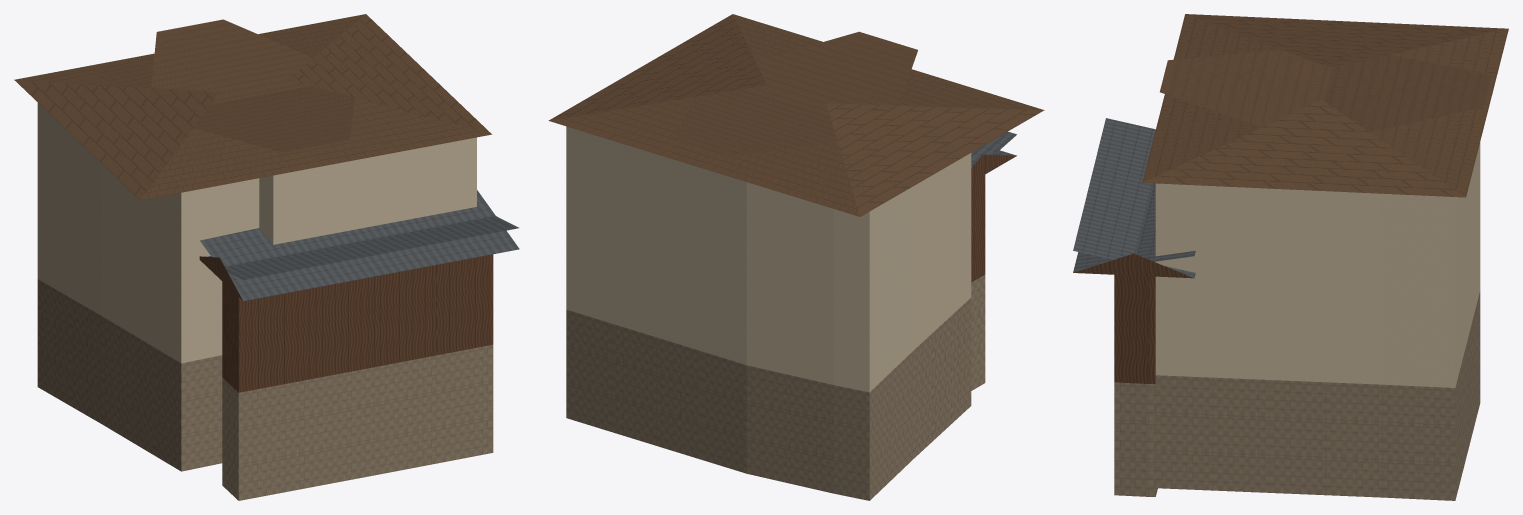
The model's file is bld_c11_19_428.gltf.
3 renders of one model, left to right at view 1: azimuth 30°, elevation 25°; view 2: azimuth 150°, elevation 25°; view 3: azimuth 270°, elevation 25°, orthographic. The views are drawn at different scales.
Visible parts, largest first — view 1: bld_c11_19_428; view 2: bld_c11_19_428; view 3: bld_c11_19_428.
Boxes of the visible parts, x1,y1,x2,y2 form: bld_c11_19_428: (14,14,519,500); bld_c11_19_428: (548,14,1044,500); bld_c11_19_428: (1073,14,1508,500).
Bounding box in the file's own units: 17.78 × 15.4 × 17.84.
Materials: 6 (6 with a texture image).
